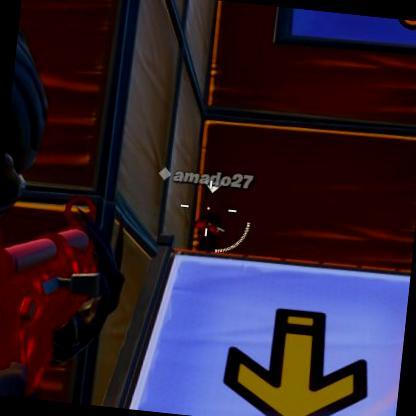person: (192, 199, 225, 254)
